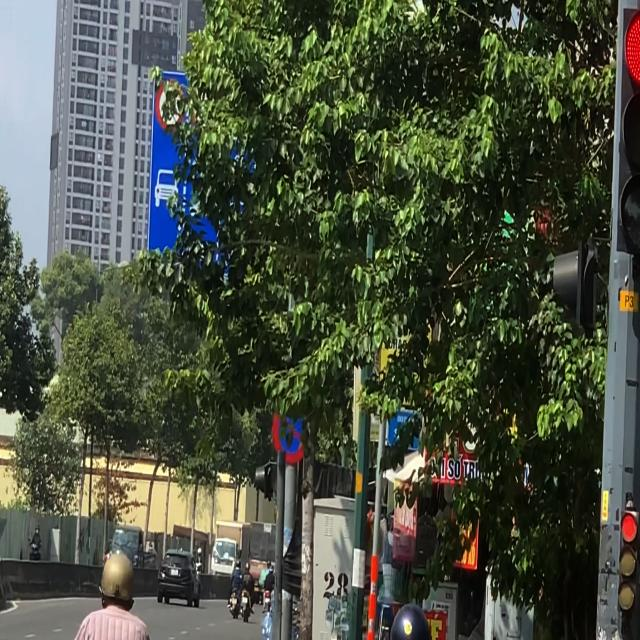Cam do: (272, 394, 312, 464)
